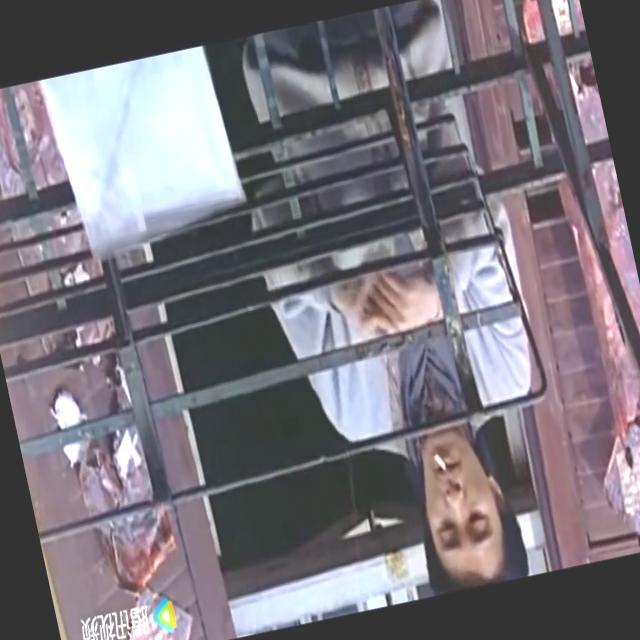cigarette: (430, 447, 448, 478)
